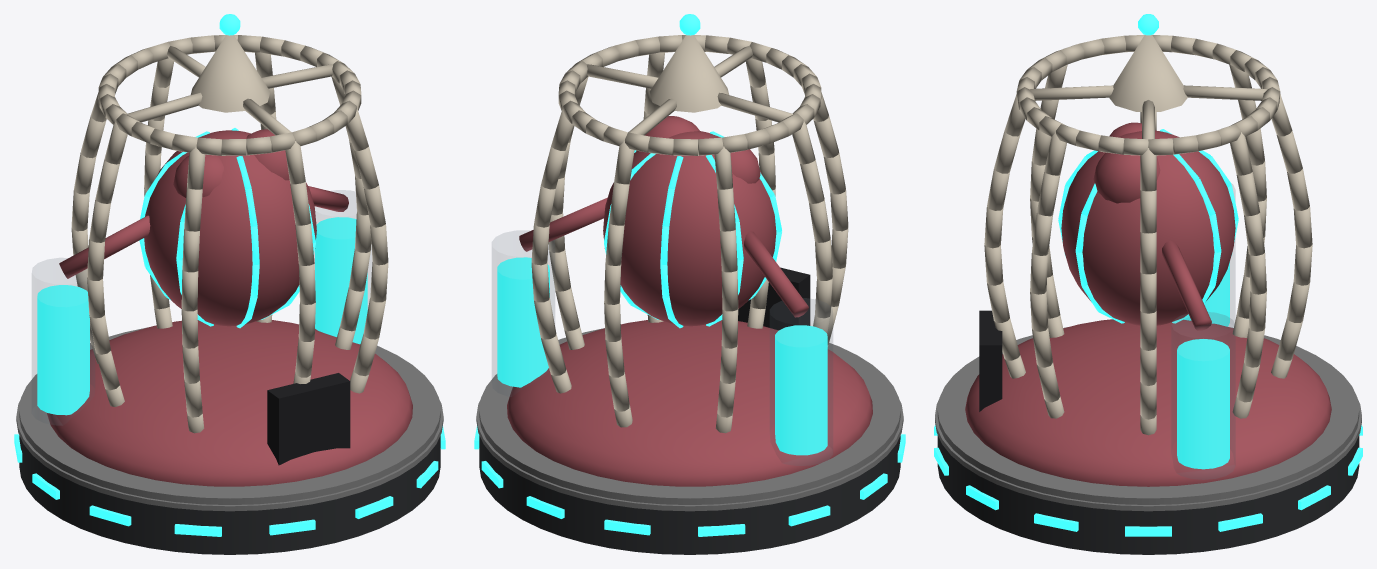
File: Forge_Heartforge.glb
The picture shows the model from 3 angles, left to right: view 1: azimuth 30°, elevation 25°; view 2: azimuth 150°, elevation 25°; view 3: azimuth 270°, elevation 25°; orthographic projection.
Visible parts, largest first — view 1: Forge_Heartforge; view 2: Forge_Heartforge; view 3: Forge_Heartforge.
Part boxes in pixels (<box>): Forge_Heartforge: <box>14,14,445,554</box>; Forge_Heartforge: <box>474,14,905,554</box>; Forge_Heartforge: <box>934,14,1362,554</box>.
Bounding box in the file's own units: 4.68 × 5.43 × 4.68.
